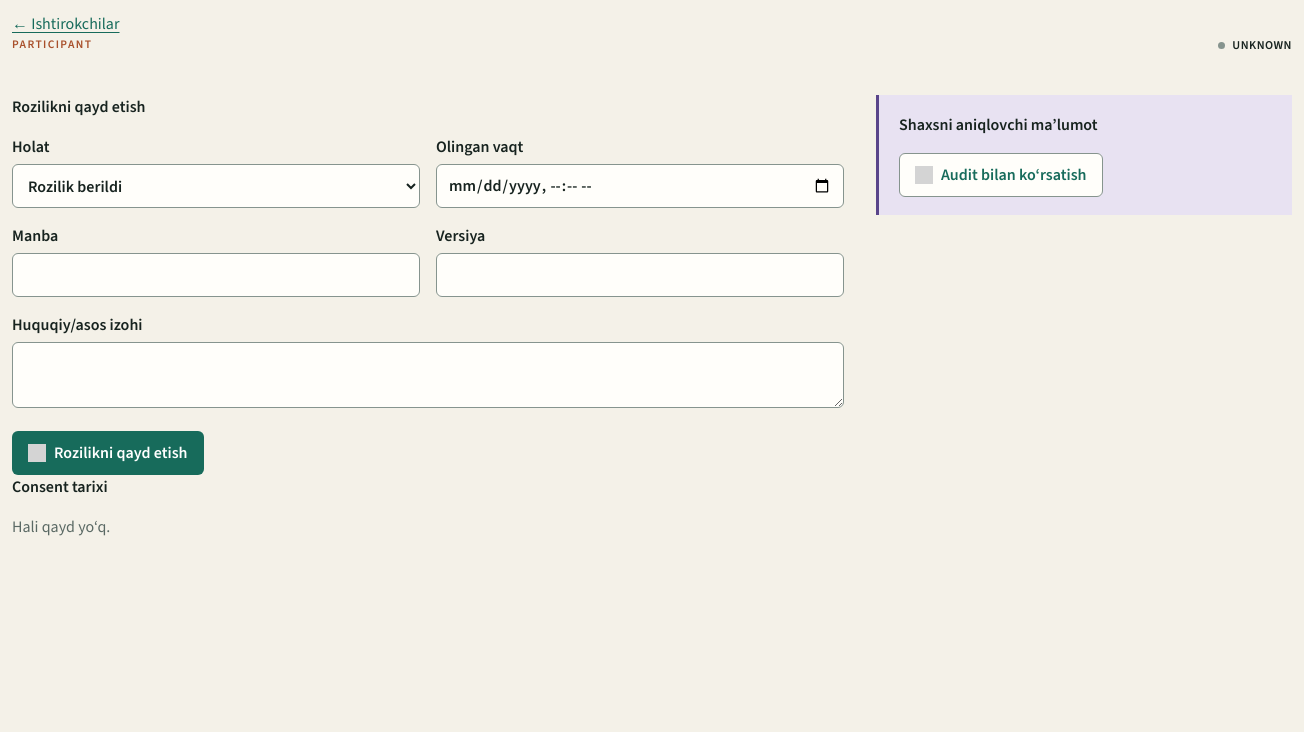
Scenario: PII permission and deletion › remasks PII and removes plaintext from browser state
Click the button "Audit bilan ko‘rsatish" at (1001, 175), box [899,153,1102,197]
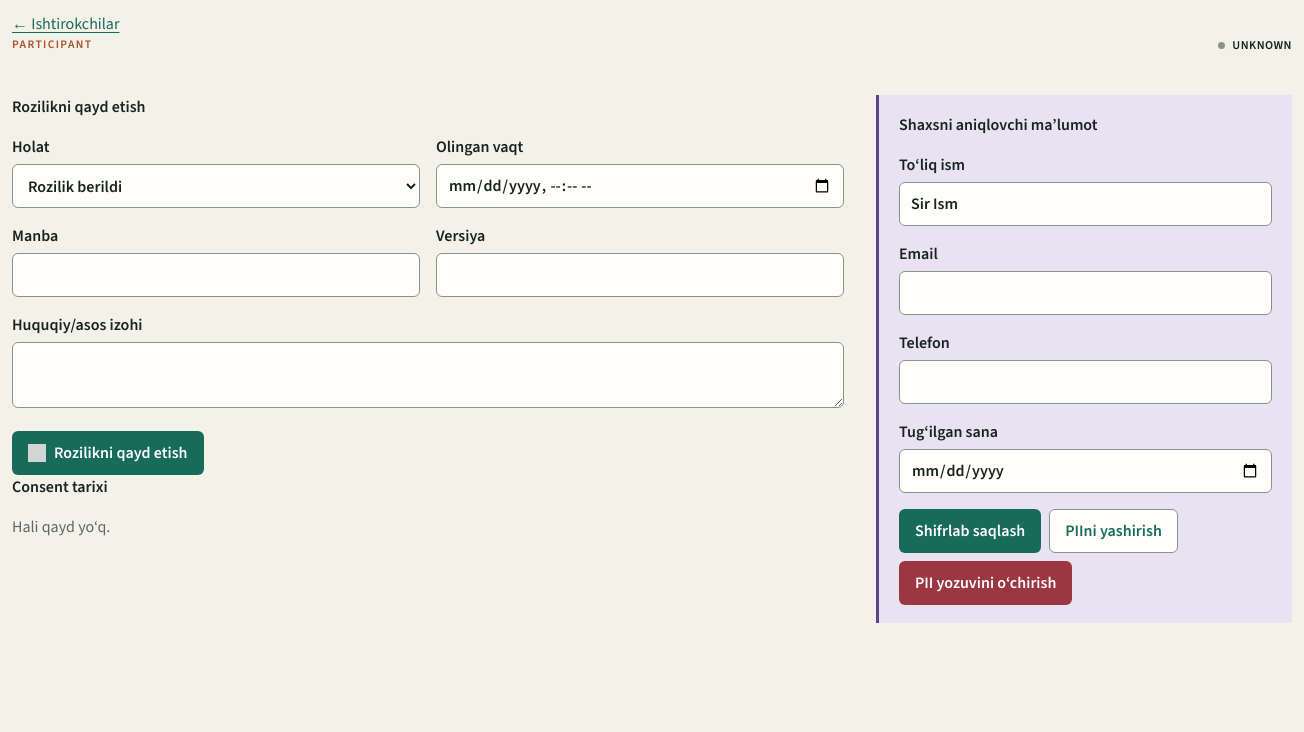
Check: the field showing "Sir Ism" is shown, box [899,182,1272,226]
Click the button "PIIni yashirish" at (1114, 531), box [1049,509,1178,553]
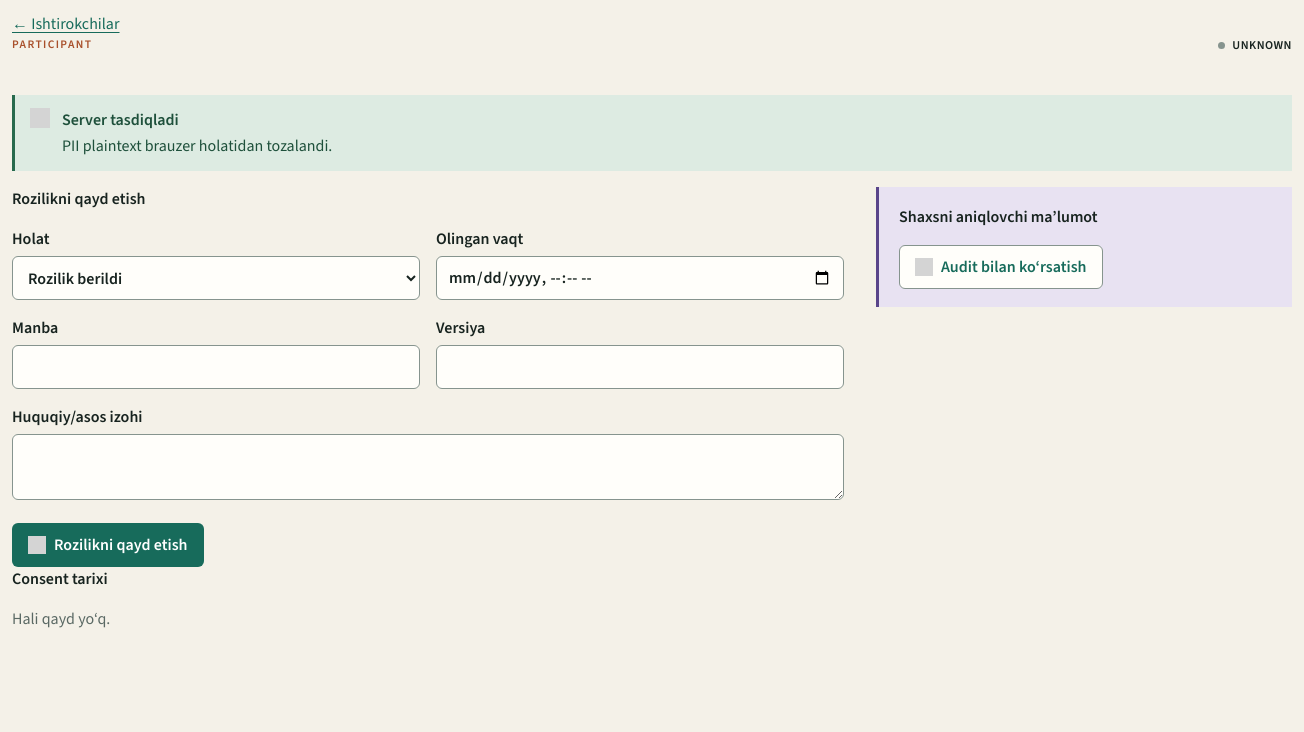
Check: the field showing "Sir Ism" is not shown
Check: the text "PII plaintext brauzer holatidan tozalandi." is shown, box [62,134,332,158]
